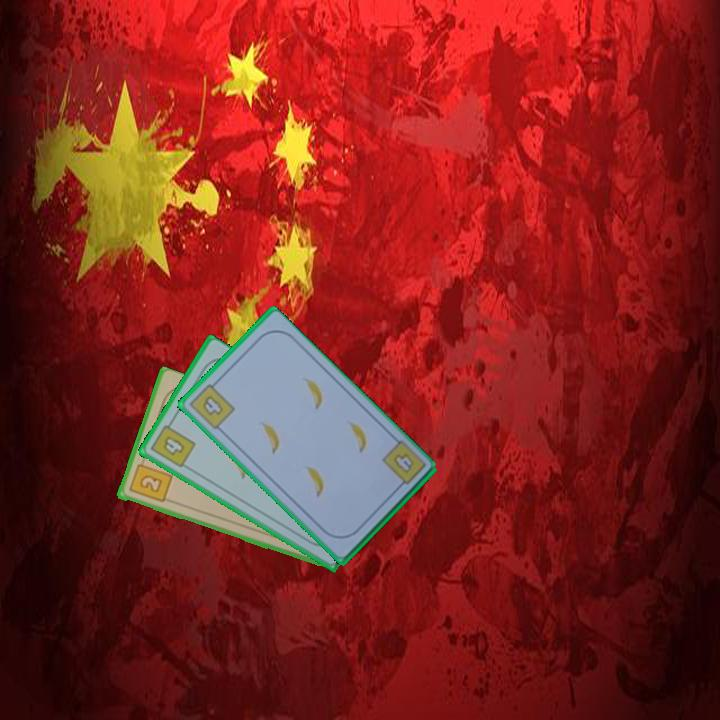2b: (125, 455, 174, 506)
4b: (186, 377, 238, 432), (147, 417, 199, 471), (389, 450, 417, 476)
